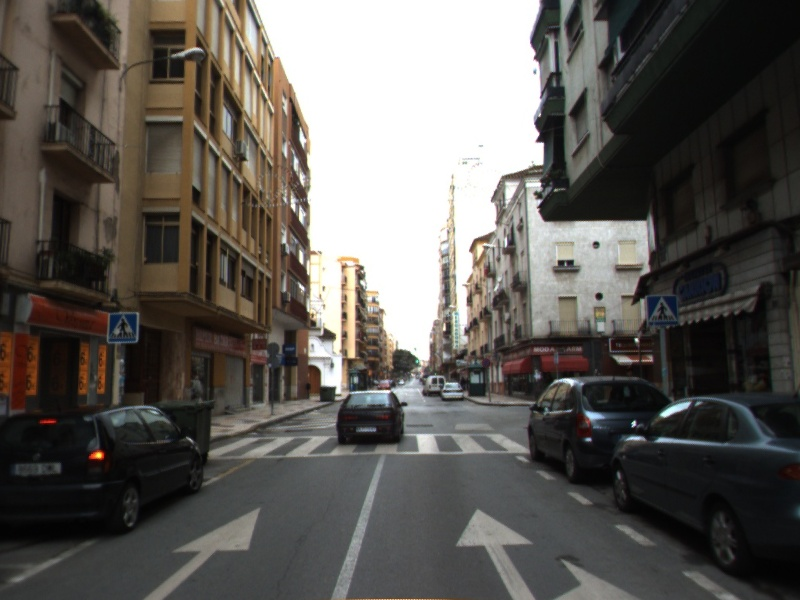STRAIGHT: (141, 506, 262, 600)
STRAIGHT_RIGHT: (454, 507, 646, 600)
